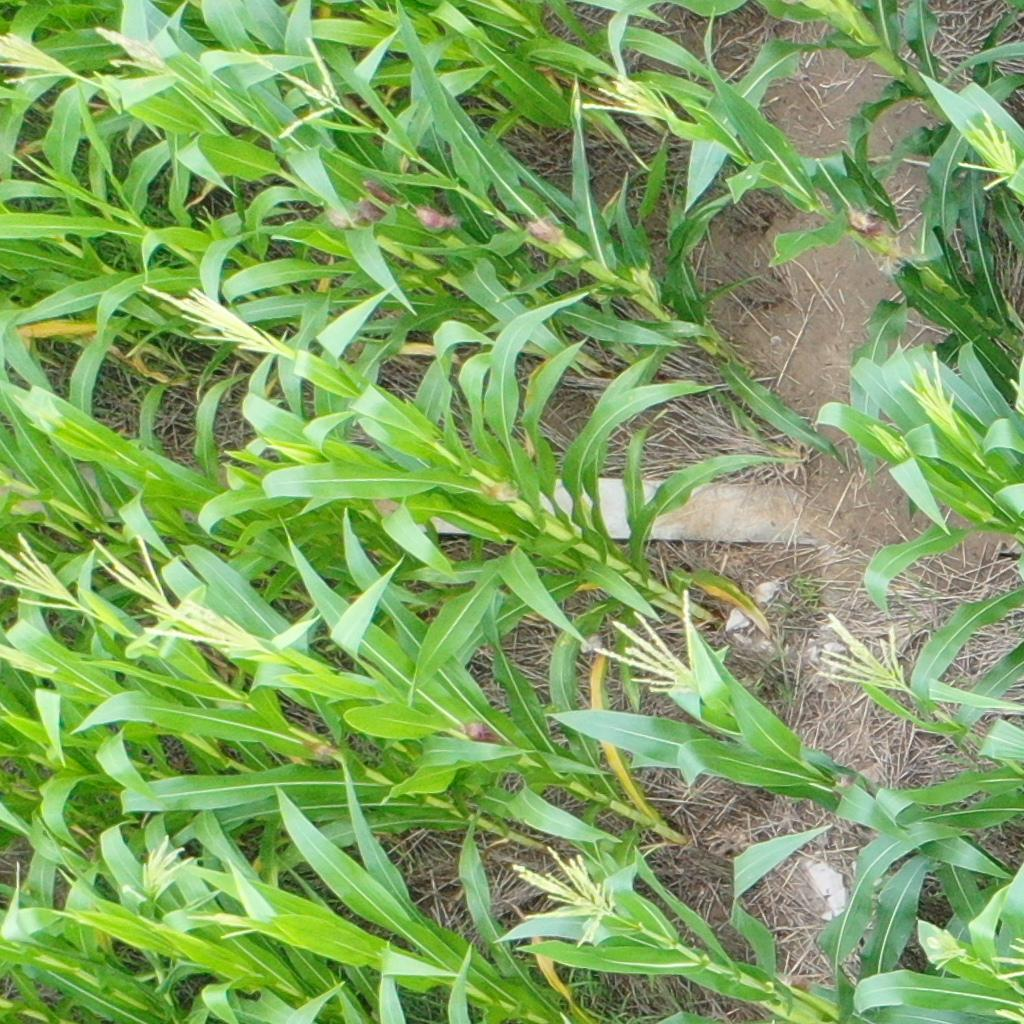Tassel: (581, 587, 708, 694), (506, 837, 624, 947), (139, 278, 288, 360), (237, 36, 349, 138), (810, 611, 921, 700), (87, 530, 180, 618), (141, 597, 269, 657), (1, 532, 88, 617), (955, 107, 1024, 194), (898, 350, 965, 427), (575, 72, 678, 120), (132, 832, 195, 905), (1, 32, 79, 89), (91, 25, 173, 78), (185, 898, 266, 945), (922, 926, 978, 974), (867, 422, 915, 467), (990, 931, 1024, 983)
